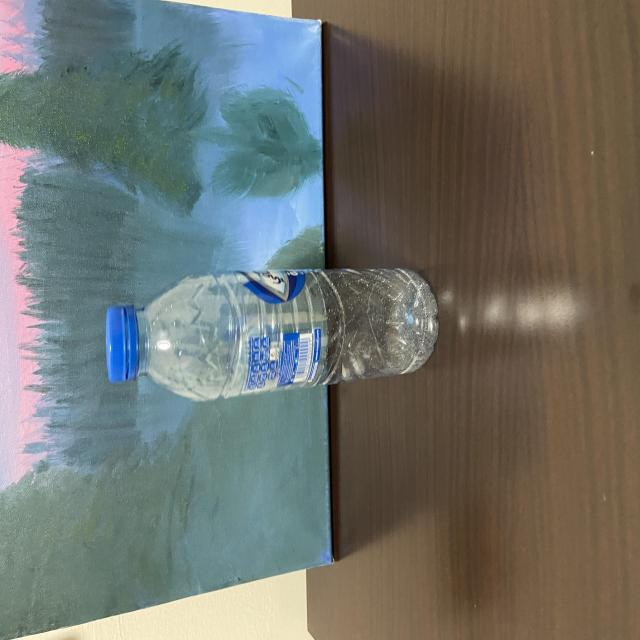plastic: (104, 264, 442, 401)
